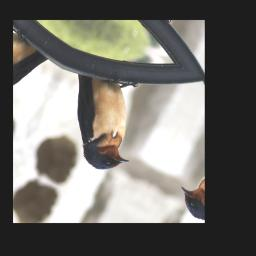Swallow: (41, 54, 165, 182)
